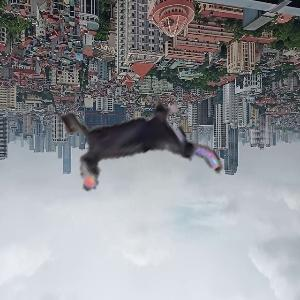drone: (42, 49, 215, 222)
